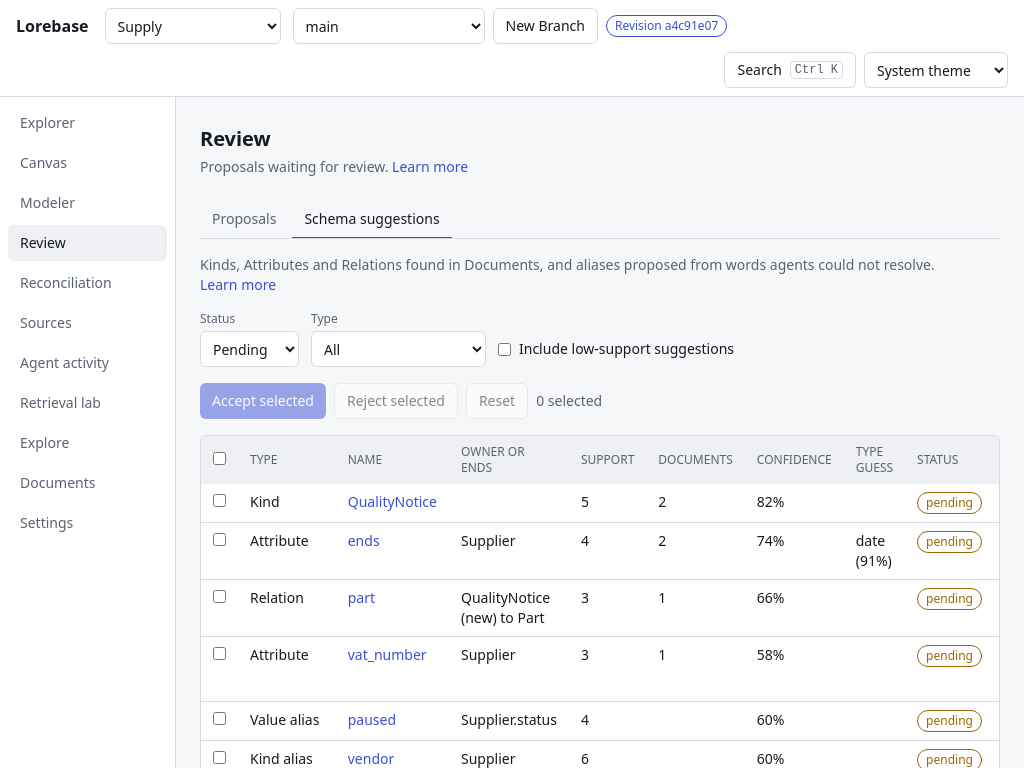
Scenario: Review: schema suggestions › lists pending suggestions above the minimum support
Check: the button "QualityNotice" is shown, box [348,492,437,512]
Check: the text "Supplier" in the row of "74%" is shown, box [461,531,516,550]
Click the checkbox labelled "Include low-support suggestions".
click(504, 349)  # box [498,342,511,356]
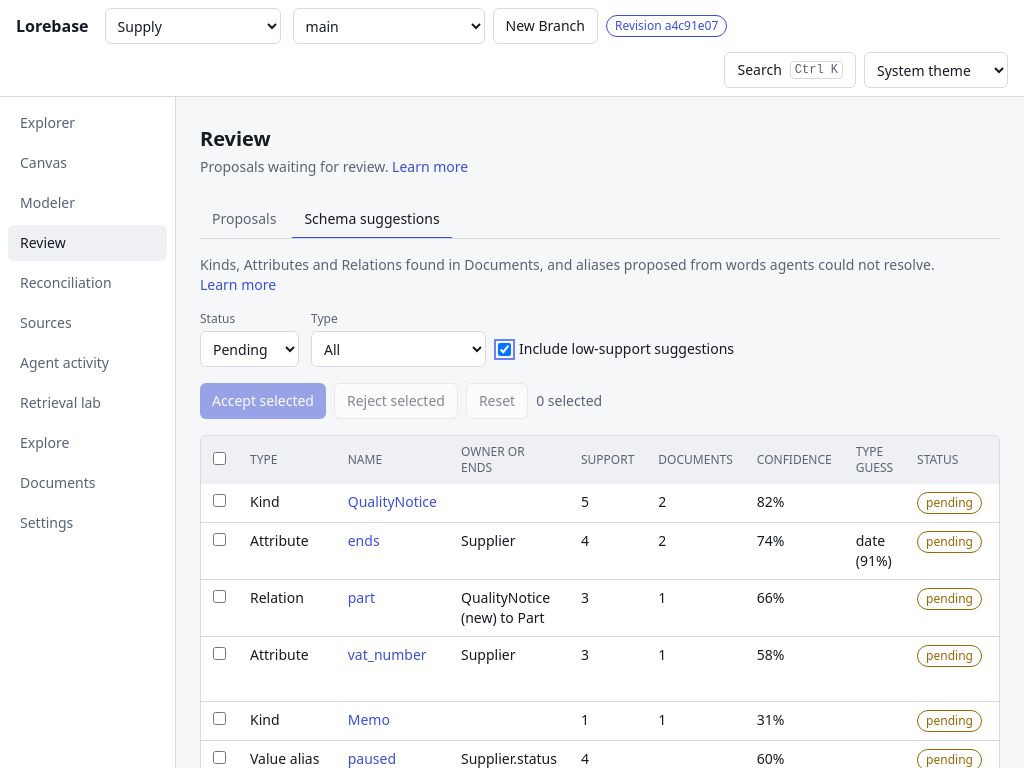
Check: the button "Memo" is shown, box [348,710,390,730]
